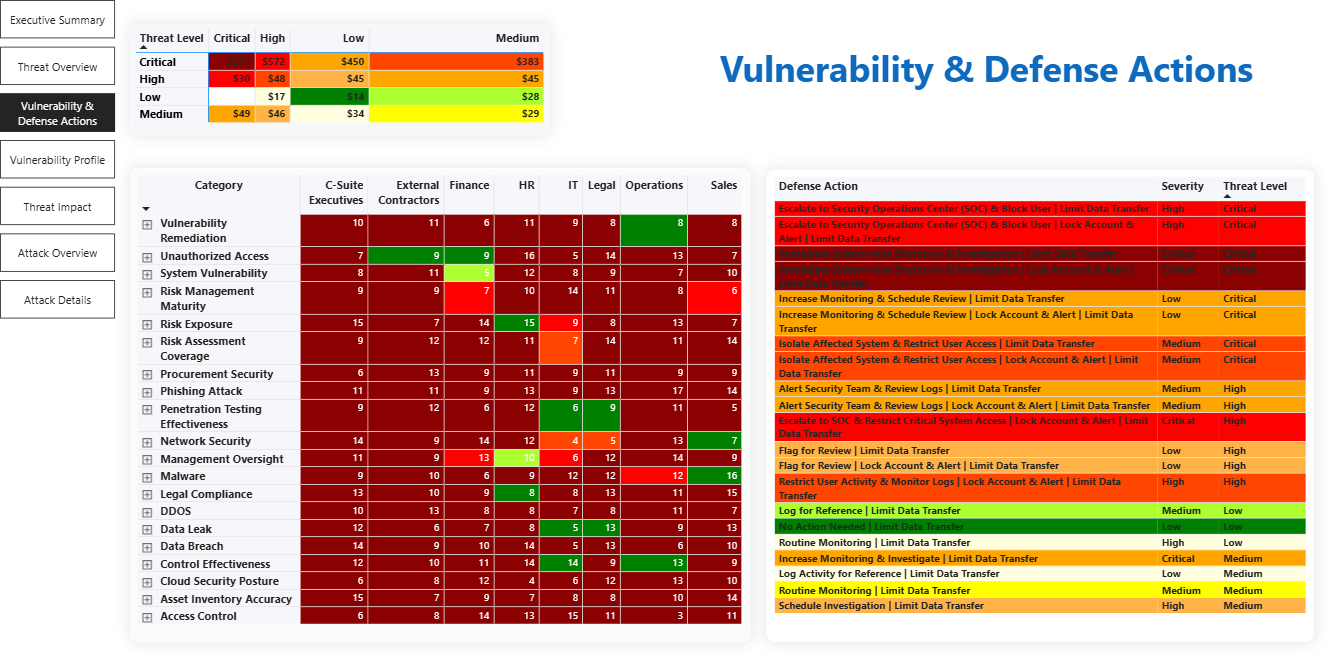

Layout of this report page (visuals, bound fields, positions):
{"tool":"powerbi","page":{"name":"Vulnerability & Defense Actions ","canvas":[1600,800],"ordinal":2},"visuals":[{"type":"pivotTable","fields":{"Columns":["simulated_attacks_df.Department Affected"],"Rows":["simulated_attacks_df.Category","simulated_attacks_df.Issue Name"],"Values":["CountNonNull(simulated_attacks_df.Issue ID)"]},"box":[156.5,201.5,743,568.5],"z":0},{"type":"tableEx","fields":{"Values":["simulated_attacks_df.Defense Action","simulated_attacks_df.Severity","simulated_attacks_df.Threat Level"]},"box":[919.4,203.3,656.7,566.7],"z":1000},{"type":"pivotTable","fields":{"Columns":["simulated_attacks_df.Severity"],"Rows":["simulated_attacks_df.Threat Level"],"Values":["simulated_attacks_df.Impact Cost (M$)"]},"box":[156.5,28.8,502,133.1],"z":2000},{"type":"textbox","box":[857.8,29.1,718.7,97.6],"z":3000},{"type":"pageNavigator","box":[0,0,138.5,383.2],"z":4000}]}

Visuals, with their boxes on the page's 1600x800 design canvas (x1, y1, x2, y2). These are canvas units, not pixel positions in the 1328x663 screenshot, which may show the page scaled, cropped or inside an application window:
pivotTable - simulated_attacks_df.Department Affected x simulated_attacks_df.Category: rect(156, 202, 900, 770)
tableEx - simulated_attacks_df.Defense Action x simulated_attacks_df.Severity: rect(919, 203, 1576, 770)
pivotTable - simulated_attacks_df.Severity x simulated_attacks_df.Threat Level: rect(156, 29, 658, 162)
textbox: rect(858, 29, 1576, 127)
pageNavigator: rect(0, 0, 138, 383)
